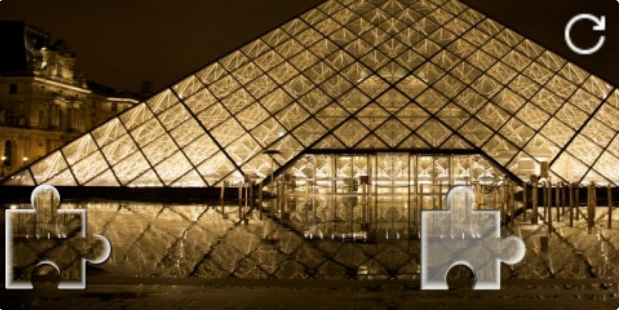target: (420, 185, 528, 290)
